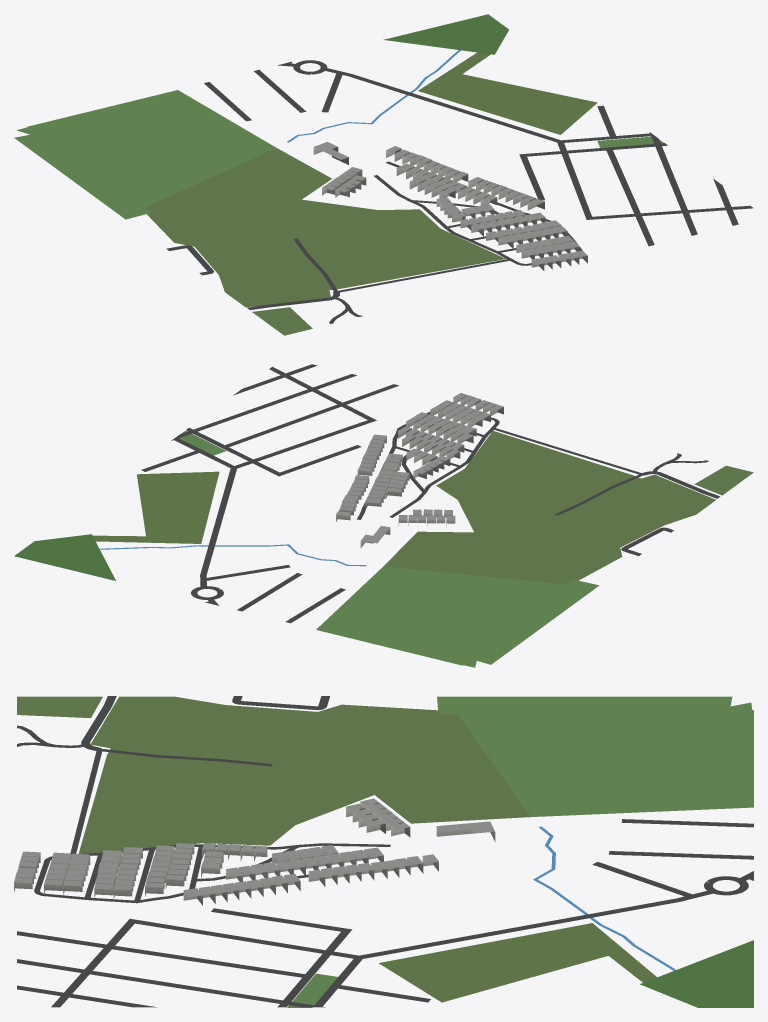
3 views of the same model, one above another, from view 1: azimuth 30°, elevation 25°; view 2: azimuth 150°, elevation 25°; view 3: azimuth 270°, elevation 25° (orthographic). The views are drawn at different scales.
Parts seen in each view (by area): view 1: ground, building; view 2: ground, building; view 3: ground, building, water.
Part boxes in pixels (x1,y1,x2,y2): ground: [14, 14, 753, 335]; building: [313, 142, 587, 270]; ground: [14, 364, 753, 667]; building: [336, 393, 503, 548]; ground: [17, 696, 753, 1007]; building: [14, 798, 495, 905]; water: [533, 826, 675, 970].
Bounding box in the file's own units: 500 × 8 × 502.
